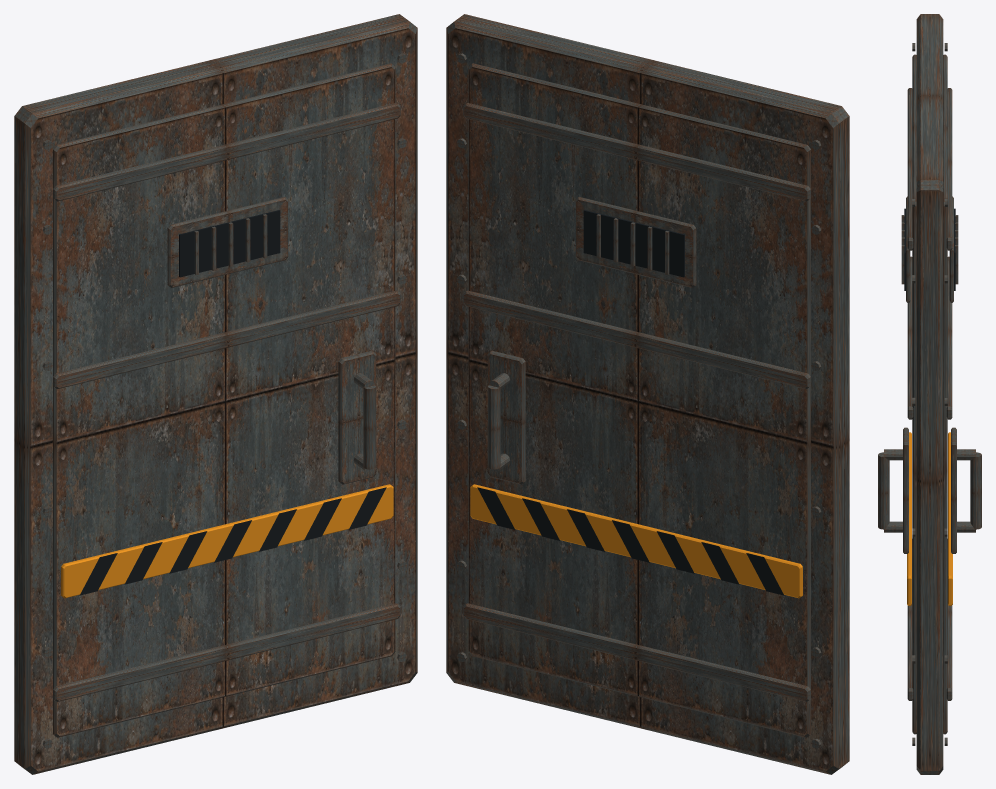
The model's file is SteelDoor.obj.
3 views of the same model, side by side, from view 1: azimuth 30°, elevation 25°; view 2: azimuth 150°, elevation 25°; view 3: azimuth 270°, elevation 25° (orthographic). The views are drawn at different scales.
Visible parts, largest first — view 1: SteelDoor; view 2: SteelDoor; view 3: SteelDoor.
Boxes of the visible parts, x1,y1,x2,y2 form: SteelDoor: (14, 14, 417, 774); SteelDoor: (446, 14, 849, 774); SteelDoor: (878, 14, 981, 774).
Size of the model in its own units: 1.84 by 2.96 by 0.468.
Materials: 4 (2 with a texture image).
